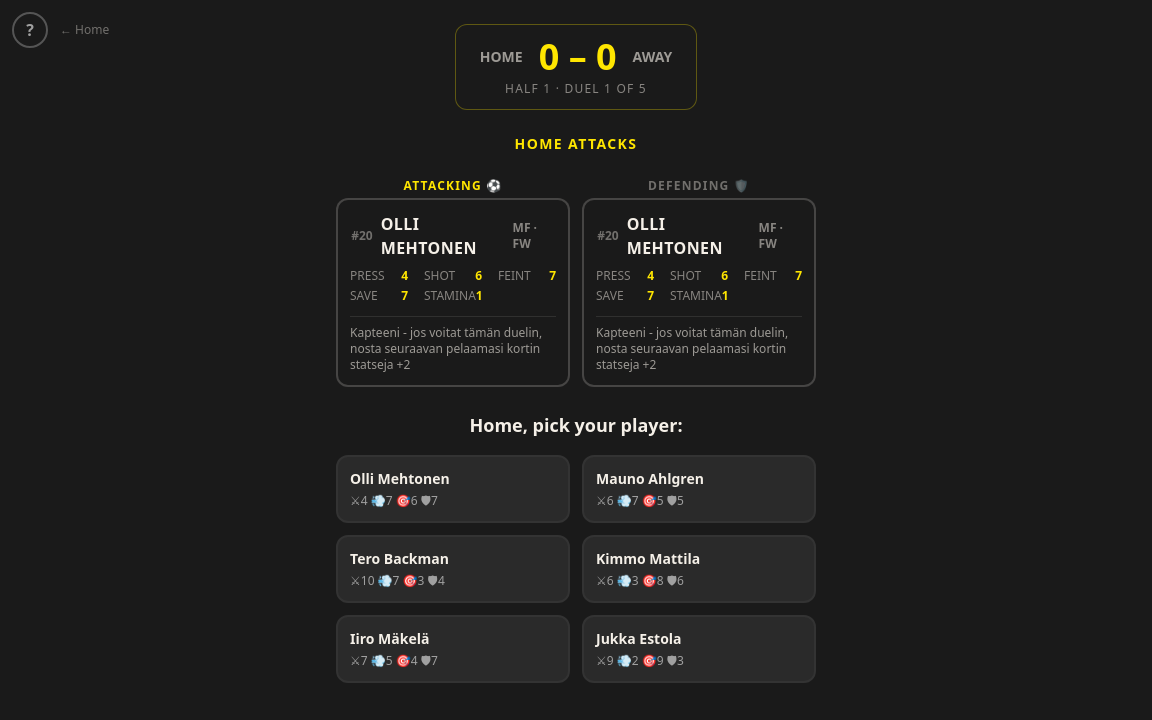
DuelScreen › shows 3 card buttons for attacker after char is picked
Pick a character first
What coordinates should you click on to do the following:
click the button with test id "char-btn-"
I would click on:
 (453, 489)
Its box is [336,455,570,523].
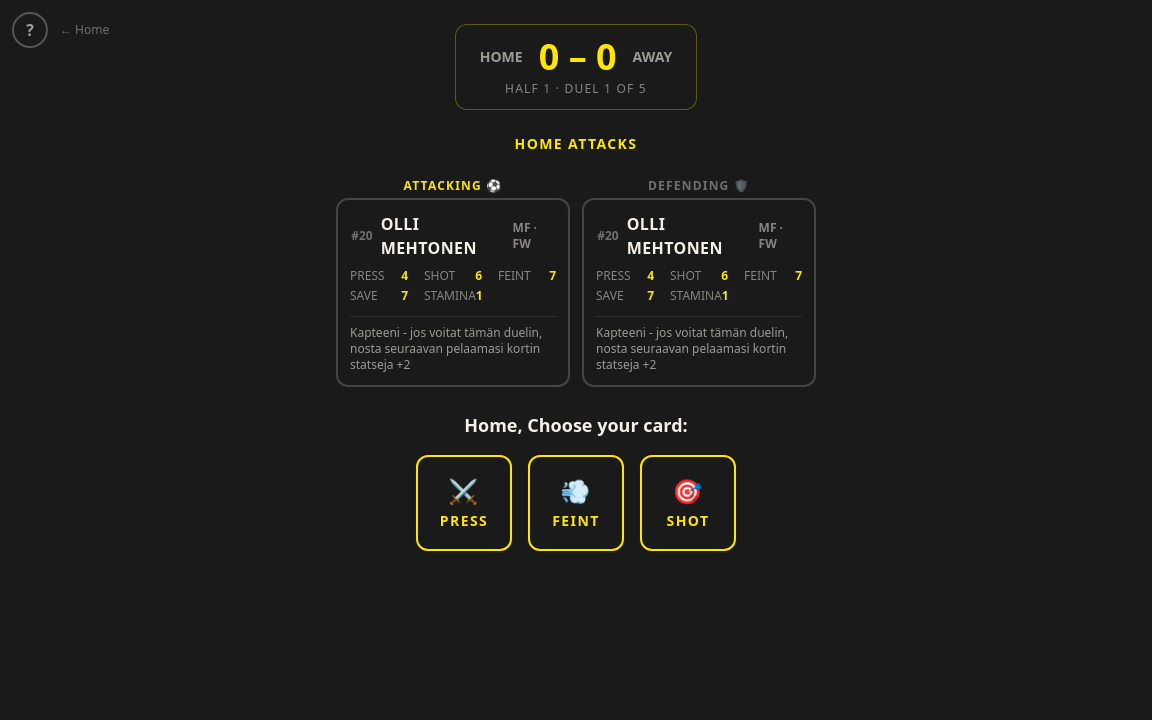
Now the button with test id "card-btn-press" is shown, box [416,455,512,551]
Now the button with test id "card-btn-feint" is shown, box [528,455,624,551]
Now the button with test id "card-btn-shot" is shown, box [640,455,736,551]
